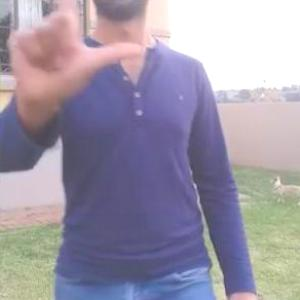land_hand: (1, 0, 149, 112)
